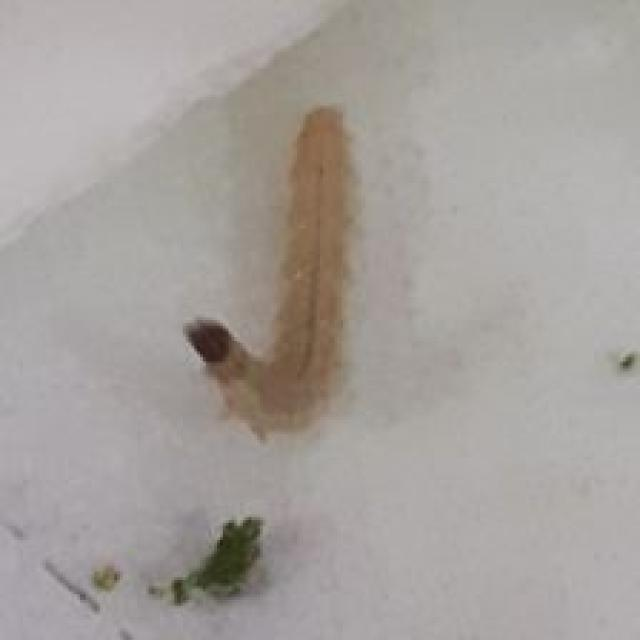white mucus: (185, 70, 414, 447)
